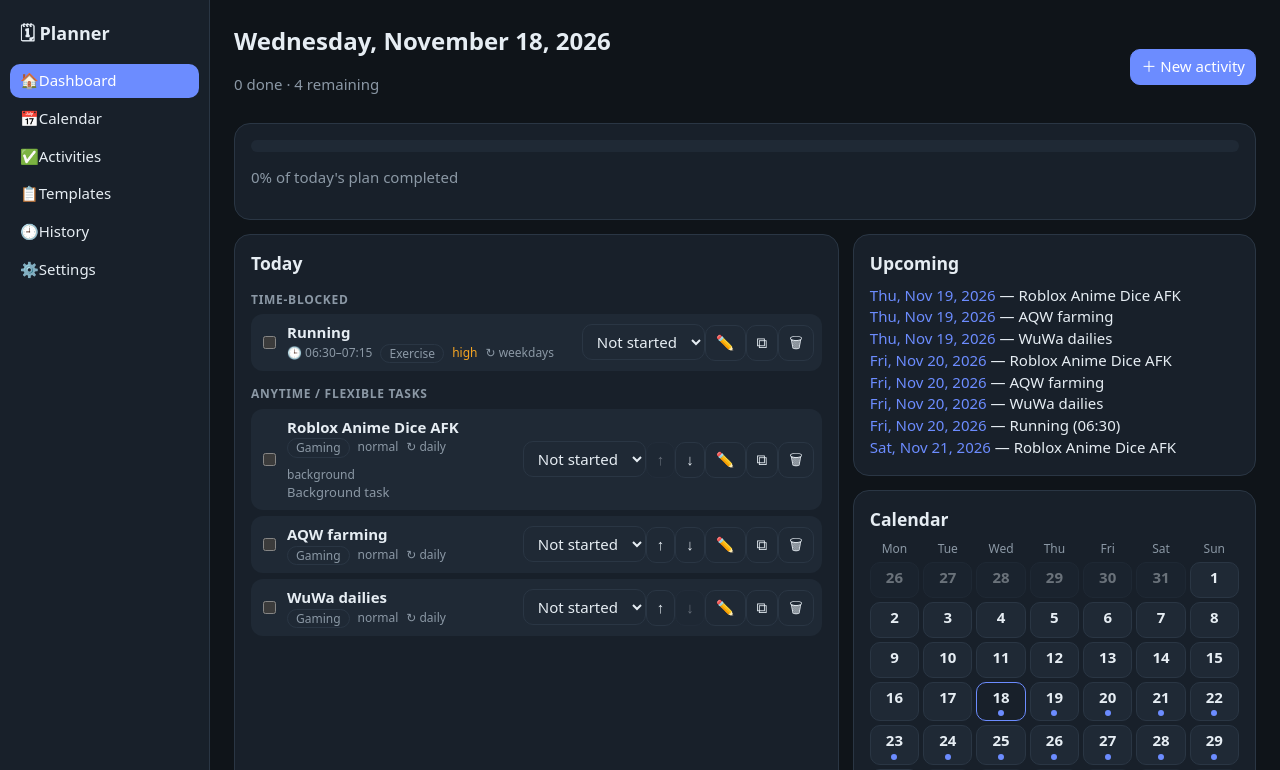
app end to end (simulated browser, real components, real storage layer) › rejects invalid input in the editor and confirms deletes
Later steps or results of the test are not shown.
Expected: the heading "Today" is shown, left=251, top=251, right=302, bottom=275
Step 1. Click the button "＋ New activity" → (1193, 67), box left=1130, top=49, right=1256, bottom=85
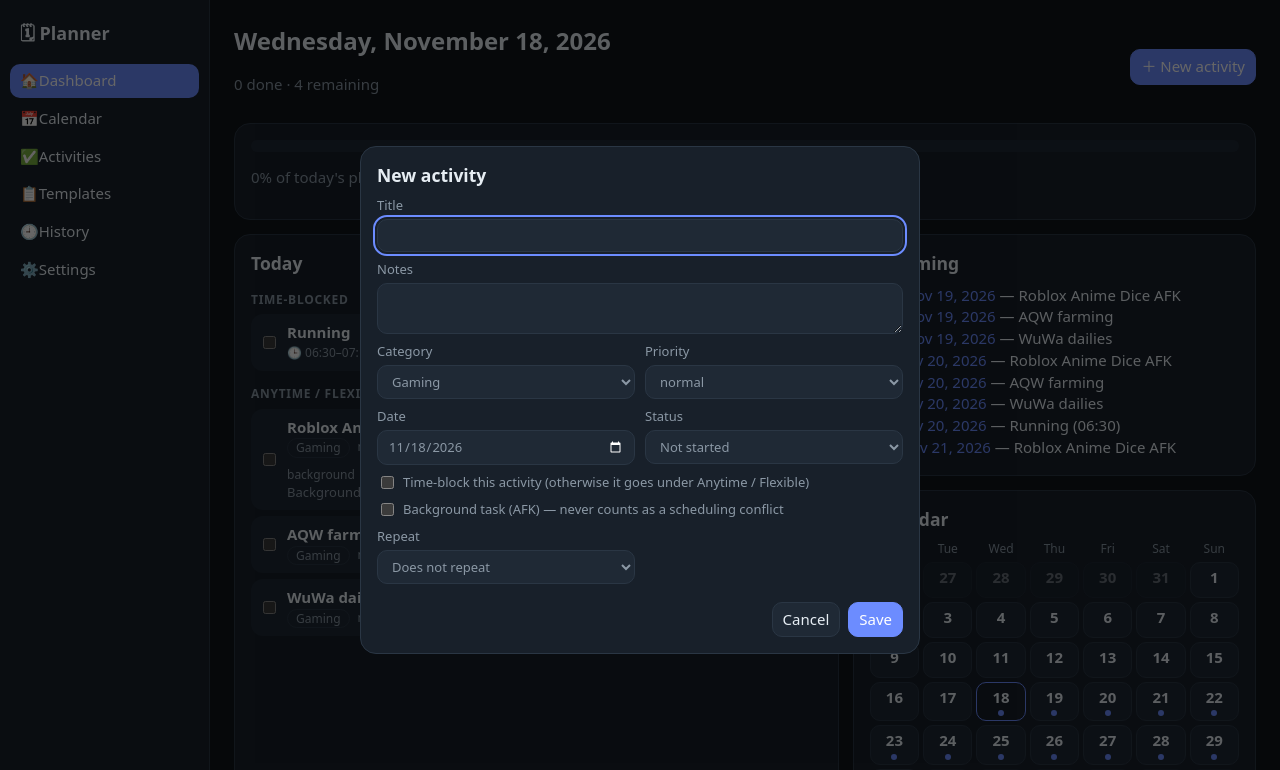
Step 2. Click the button "Save" → (876, 620), box left=848, top=602, right=903, bottom=637
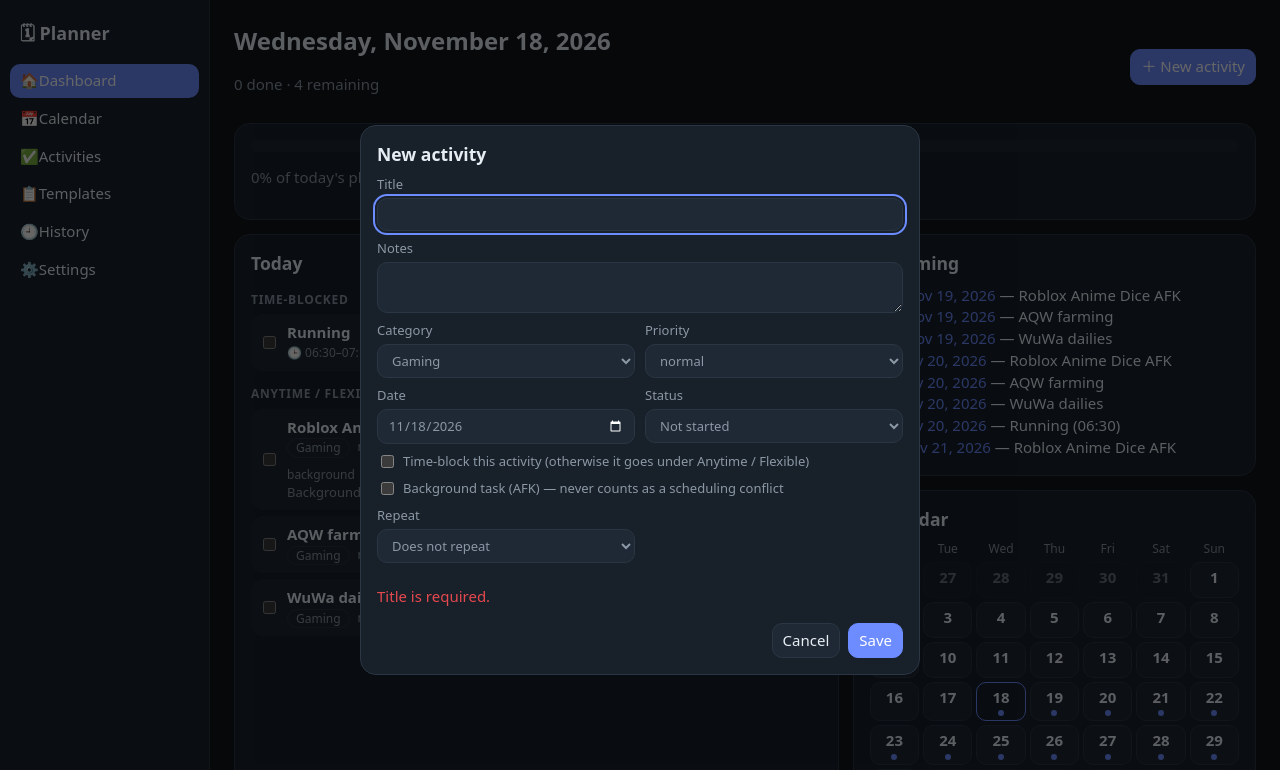
Expected: the message shows "Title is required", left=377, top=586, right=490, bottom=606
